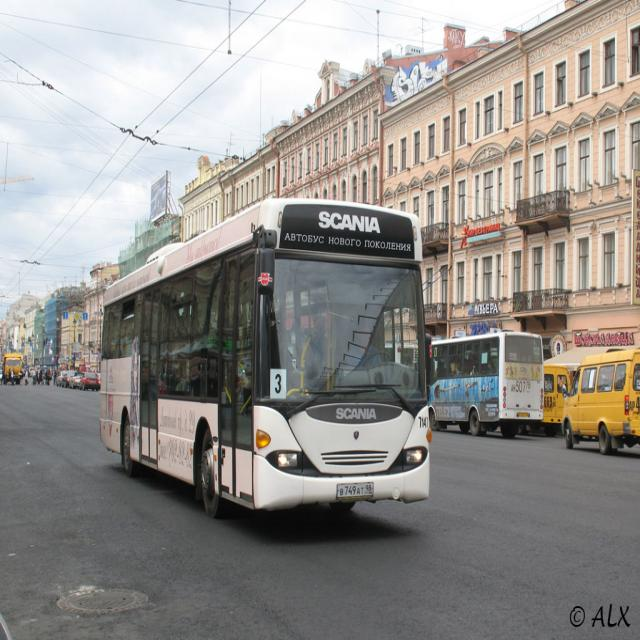number-of-bus: (271, 370, 288, 401)
